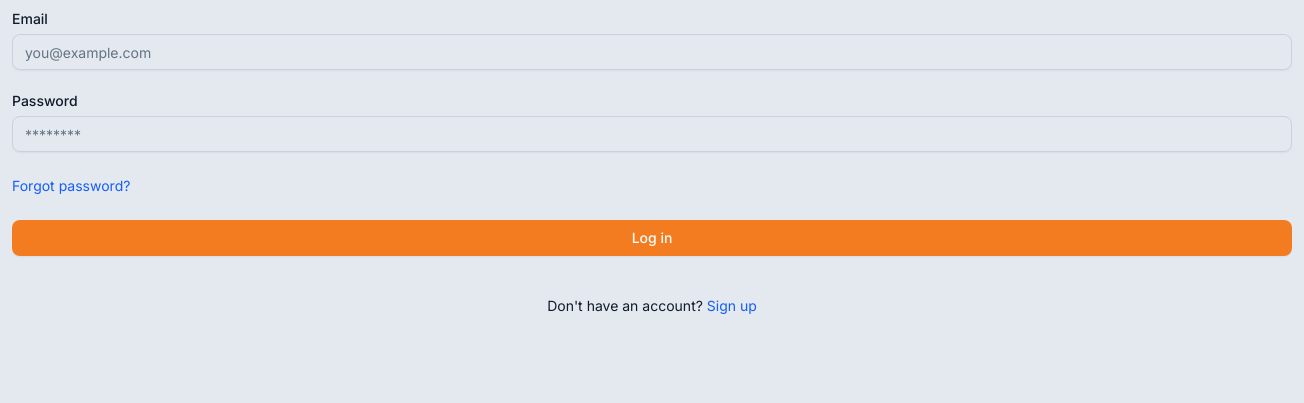
Test: LoginForm › shows error message on invalid credentials
The width and height of the screenshot is (1304, 403).
Fill in form fields
Type "test@example.com" into the field labelled "Email" at (652, 52), box [12,34,1292,70]
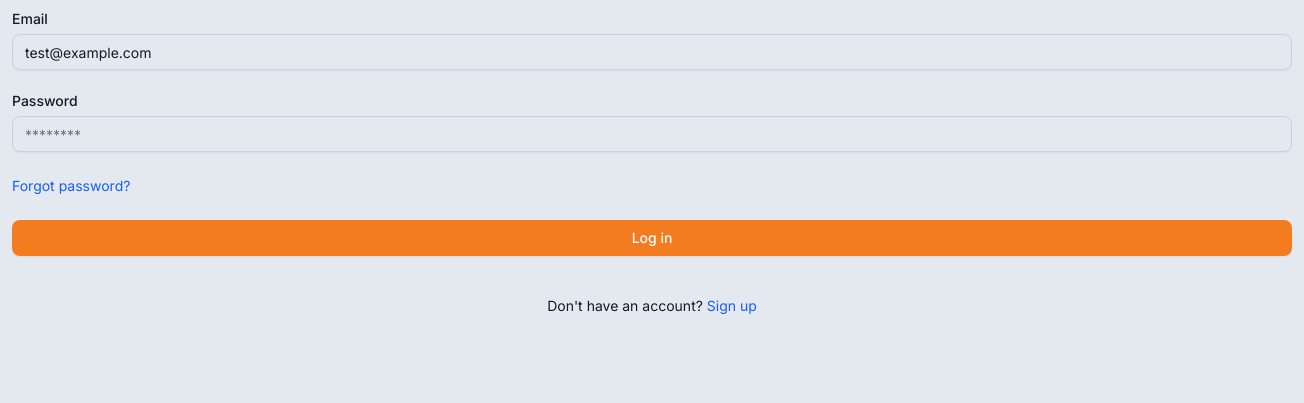
Type "wrongpassword" into the password field labelled "Password" at (652, 134), box [12,116,1292,152]
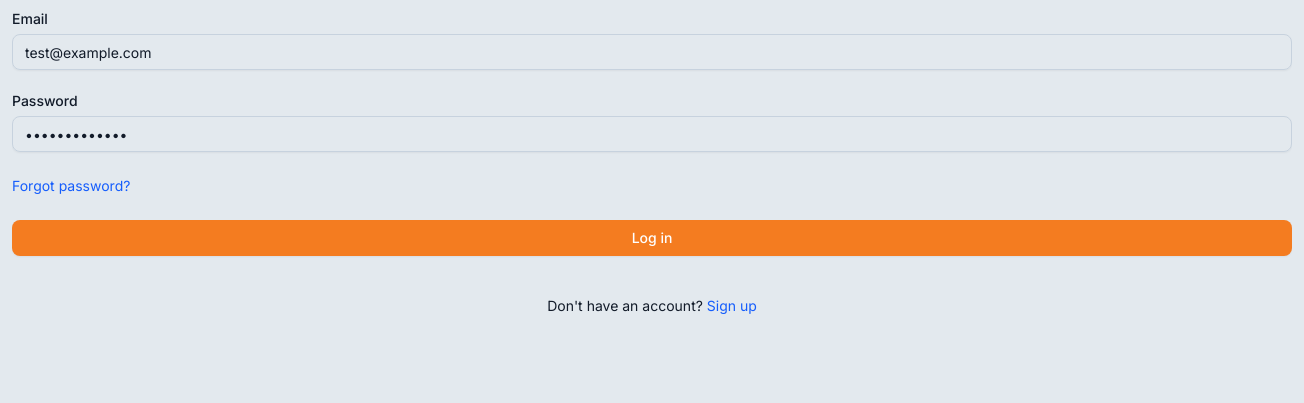
Submit the form
Click the button "Log in" at (652, 238), box [12,220,1292,256]
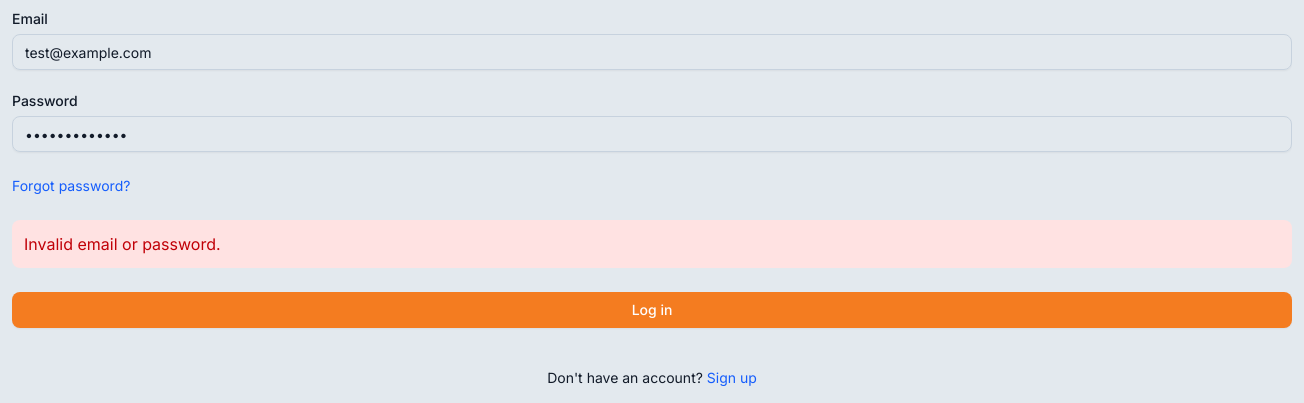
Expected: the text "Invalid email or password." is shown, [12,220,1292,268]
